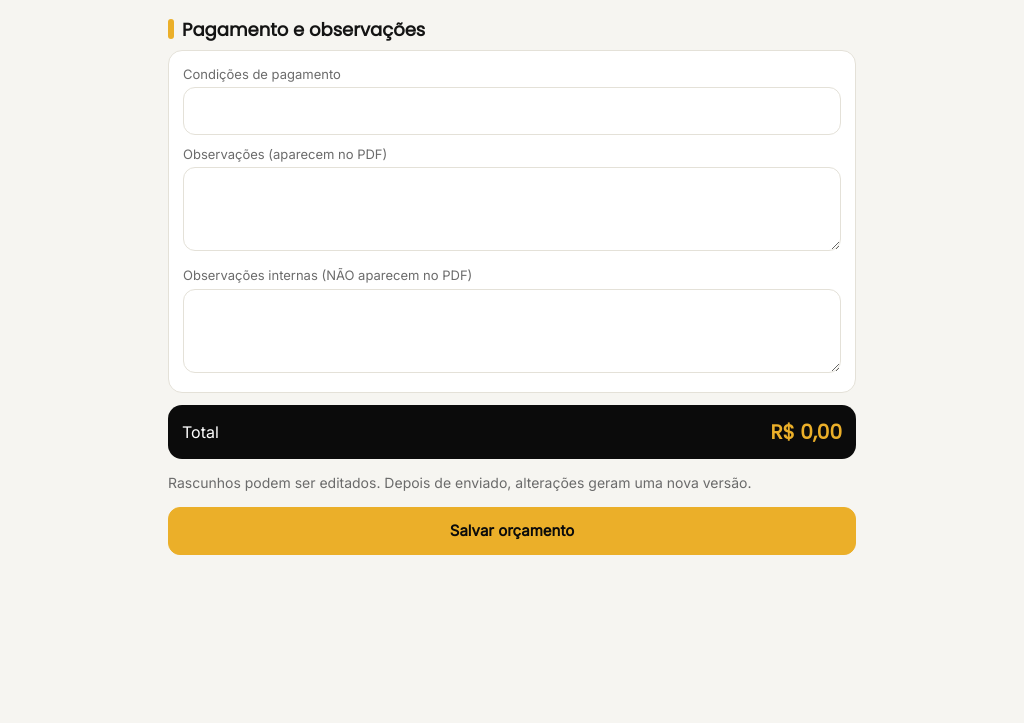
sem cliente e sem itens: mostra erros e não salva
(page scrolled)
Click the button "Salvar orçamento" at (512, 531), box [168,507,856,555]
(page scrolled)
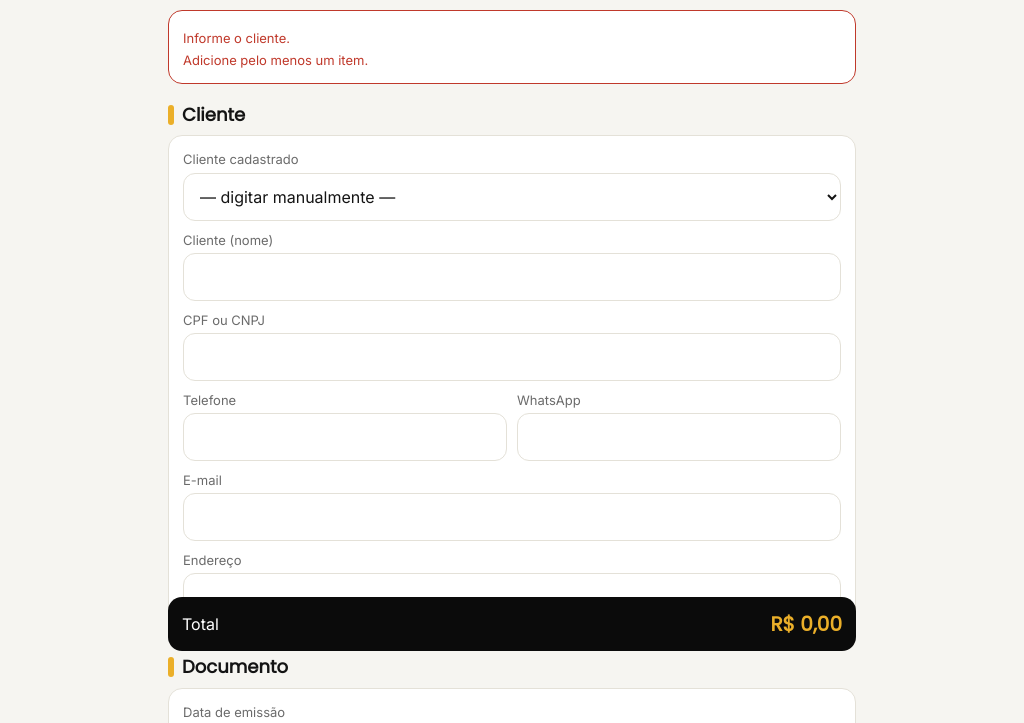
Check: the text "Informe o cliente." is shown, box [183,30,290,46]
Check: the text "Adicione pelo menos um item." is shown, box [183,52,368,68]
